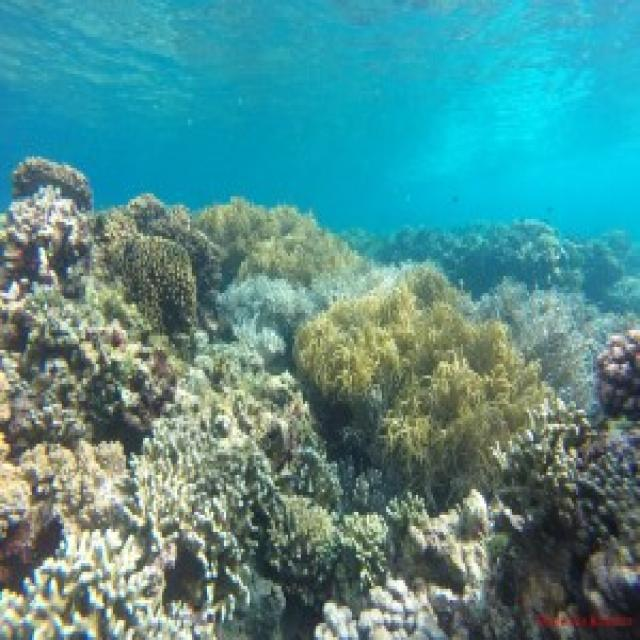Bleached: (479, 283, 615, 399), (223, 277, 300, 357)
Healthy: (295, 268, 543, 479), (195, 351, 383, 607), (502, 411, 639, 598), (138, 391, 278, 559), (14, 291, 174, 436), (1, 530, 214, 638), (195, 200, 359, 283), (3, 442, 127, 536), (389, 490, 490, 595), (10, 186, 88, 288), (123, 234, 197, 339), (315, 581, 445, 638), (14, 157, 91, 211), (598, 331, 639, 419)
